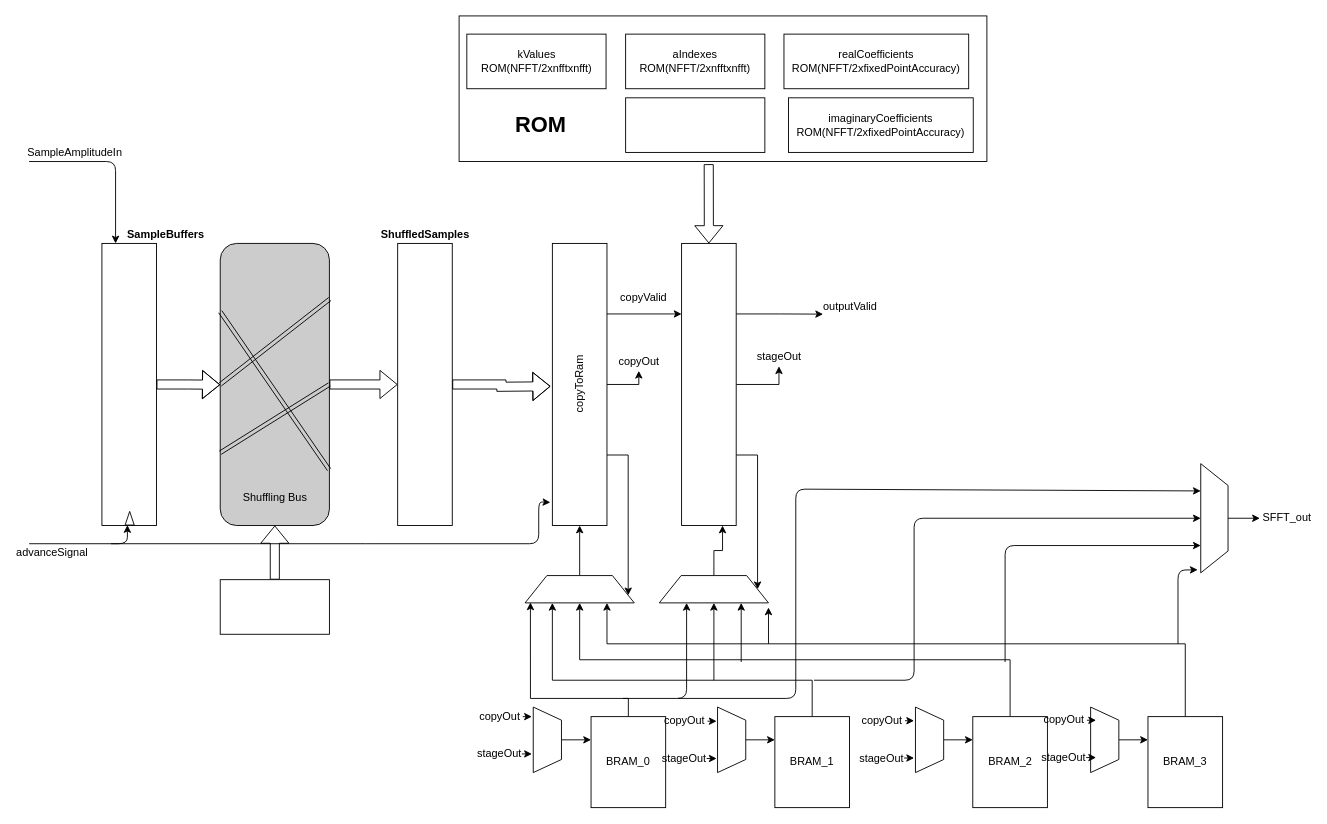
The diagram is 1327 pixels wide and 824 high, and some of its shapes have lost their labels. Here are the shapes that lost their labels. From the top down, the box of each, then its label:
(625, 97, 765, 152): bIndexes ROM(NFFT/2xnfftxnfft)
(101, 243, 157, 526): << Shift Buffer (NFFTxbitWidth)
(397, 243, 452, 526): Latch Array (NFFTxbitWidth)
(681, 243, 736, 526): pipelineStage
(219, 579, 329, 634): shuffledInputIndexes ROM (NFFTxnfft)
